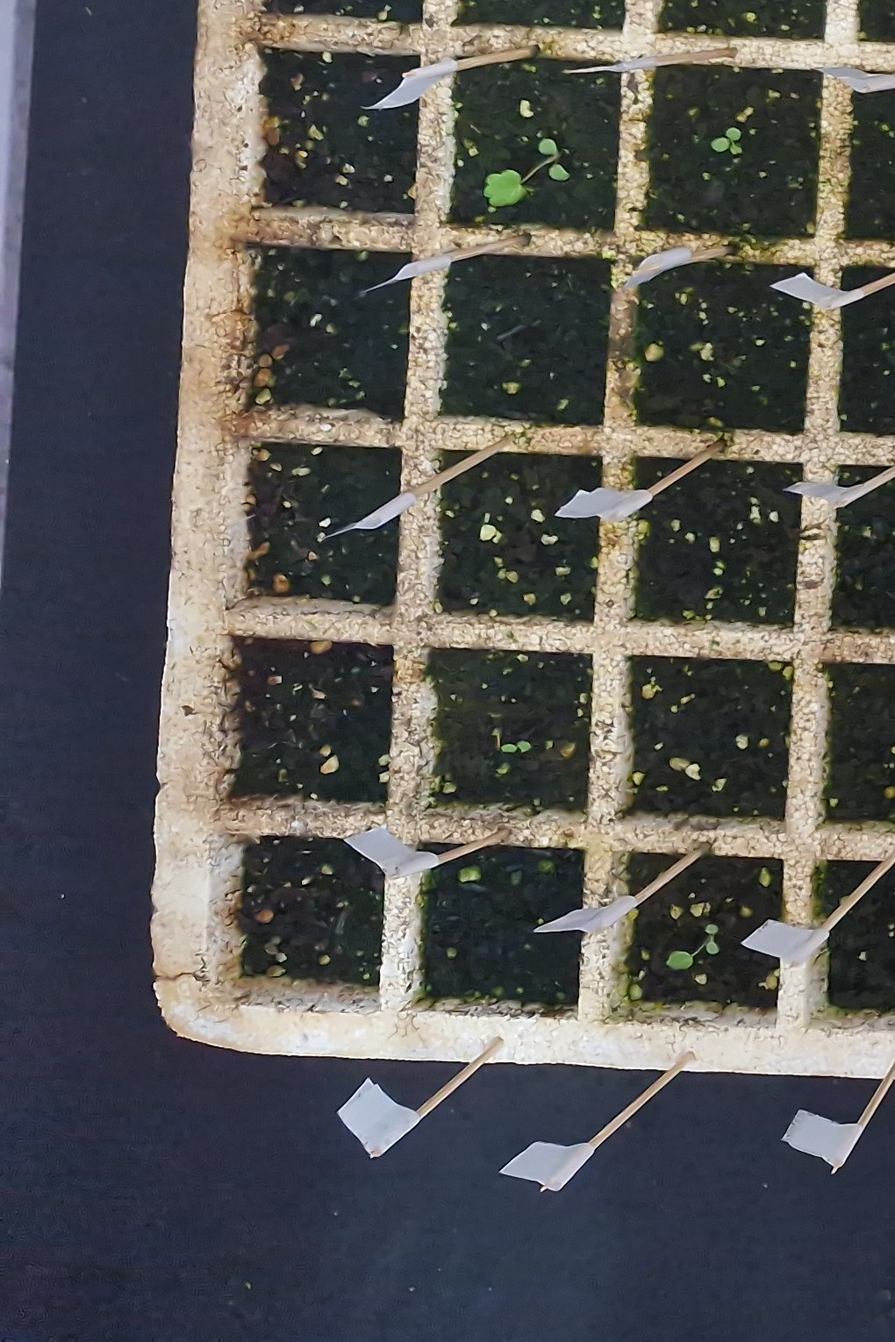Folha: (485, 170, 525, 207), (667, 952, 693, 969), (550, 163, 569, 180), (538, 138, 557, 154), (726, 127, 742, 140), (713, 138, 729, 151), (706, 942, 719, 955), (501, 744, 517, 753), (705, 924, 718, 934), (518, 741, 532, 750)
Germinacao: (483, 138, 568, 208), (666, 924, 720, 970), (711, 128, 743, 153), (501, 741, 531, 752)
